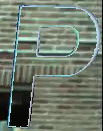Parking: (0, 2, 101, 130)
